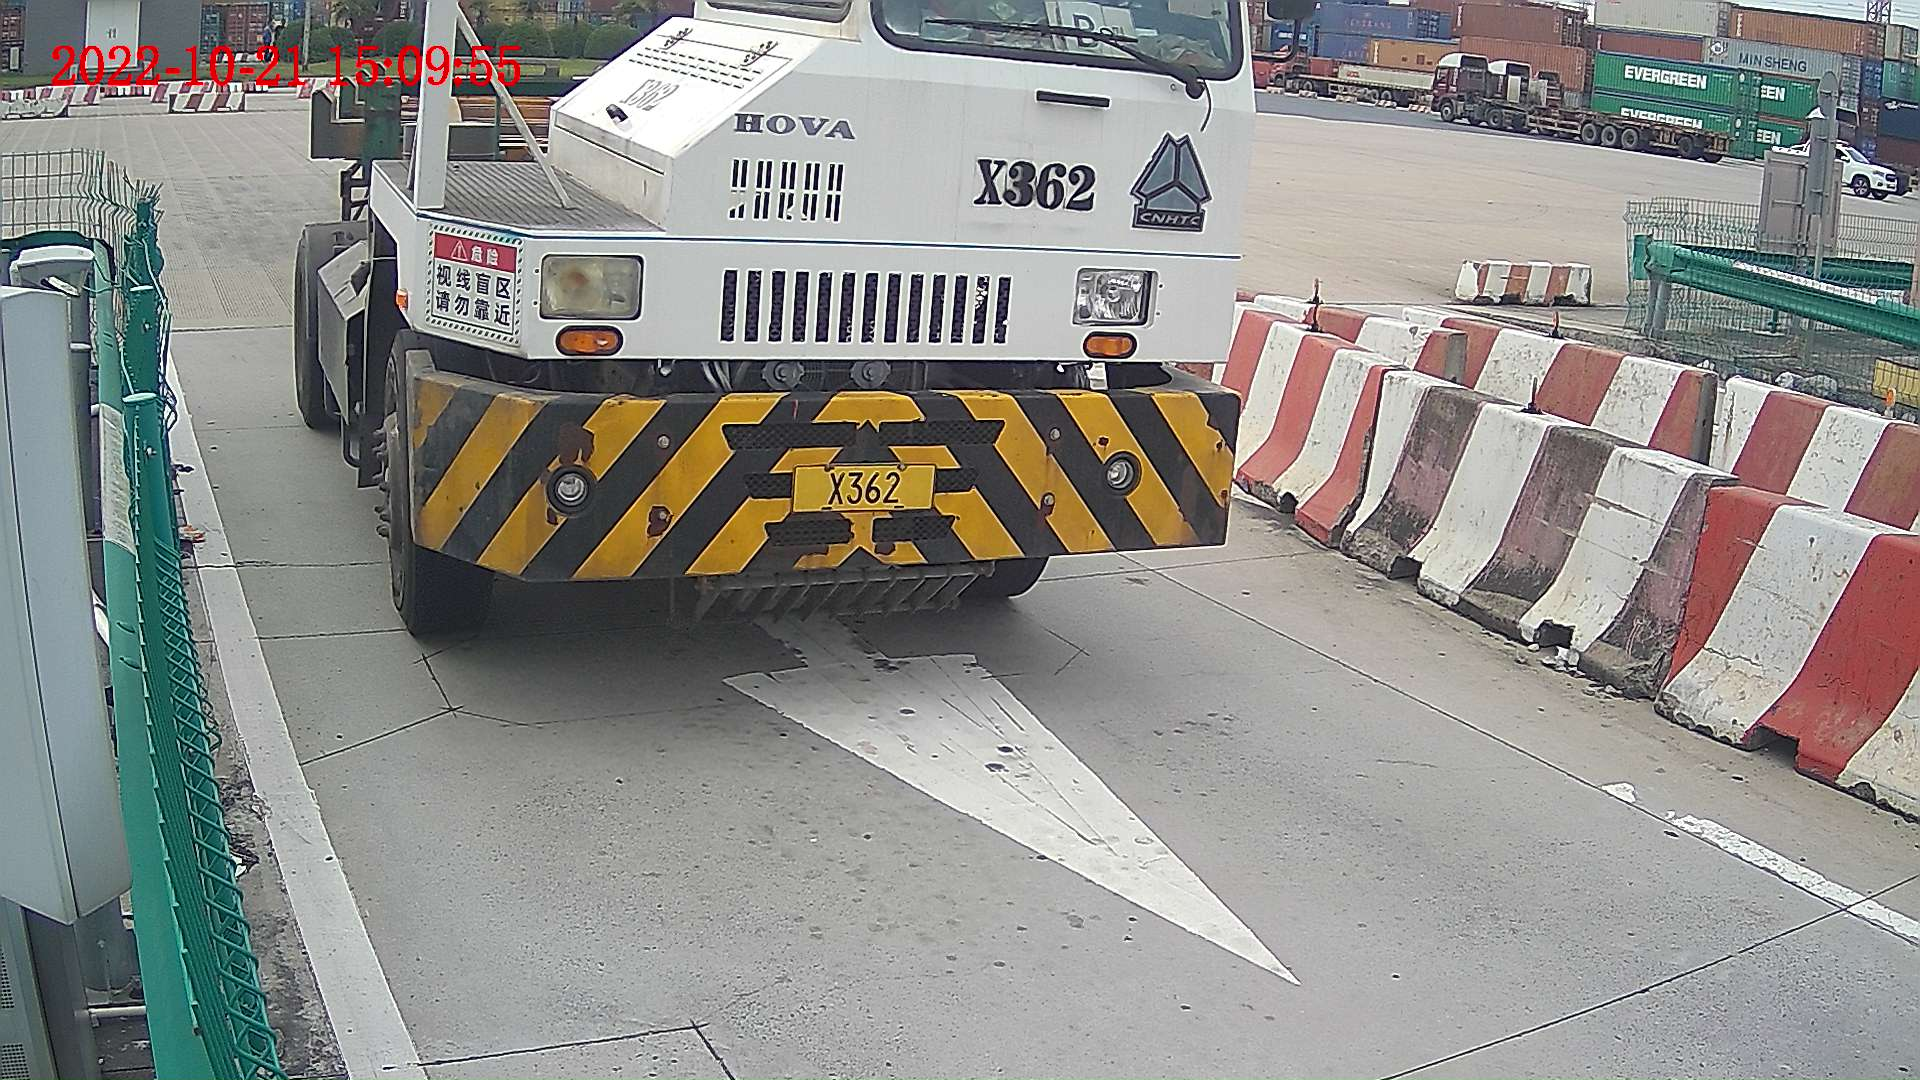head: (386, 1, 1256, 636)
plate: (792, 468, 934, 509)
